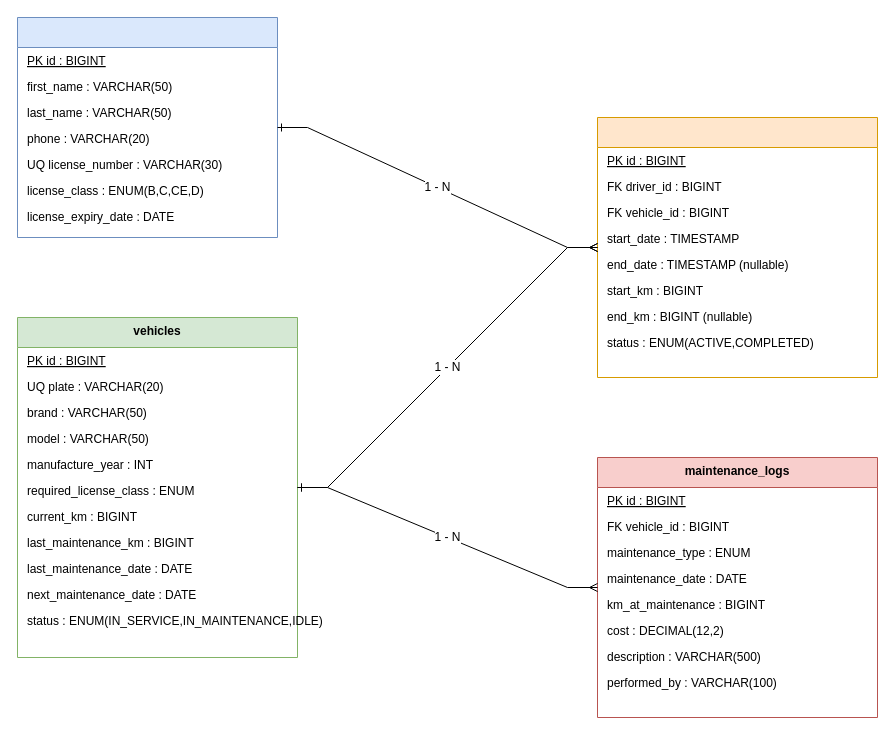
This 895x735 diagram has some shape labels left out. The box of each missing label's shape, as (x1, y1, x2, y2) in pixels:
drivers: (16, 16, 278, 238)
vehicle_assignments: (596, 116, 878, 378)
